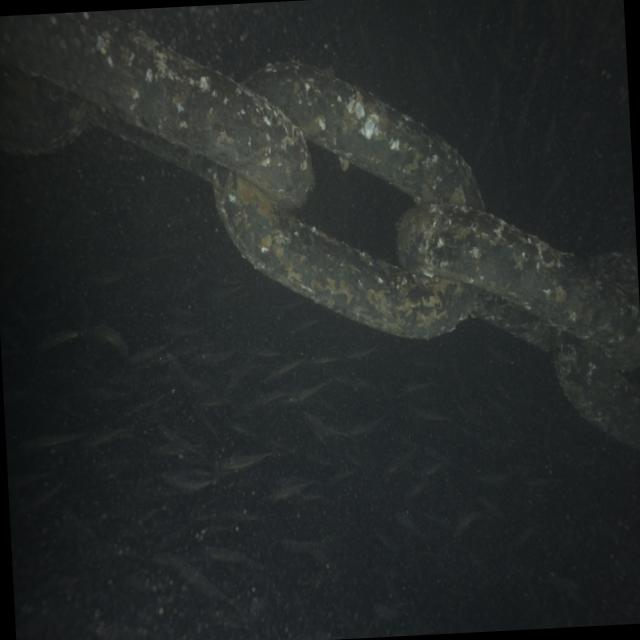ChainLink: (0, 15, 310, 205), (215, 167, 476, 339), (398, 205, 640, 369), (246, 64, 484, 211), (554, 334, 640, 449), (90, 105, 214, 181), (0, 61, 87, 154), (471, 290, 555, 351), (589, 252, 639, 305)
